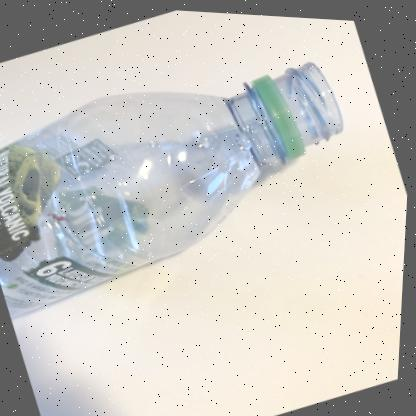Plastic: (0, 58, 344, 317)
